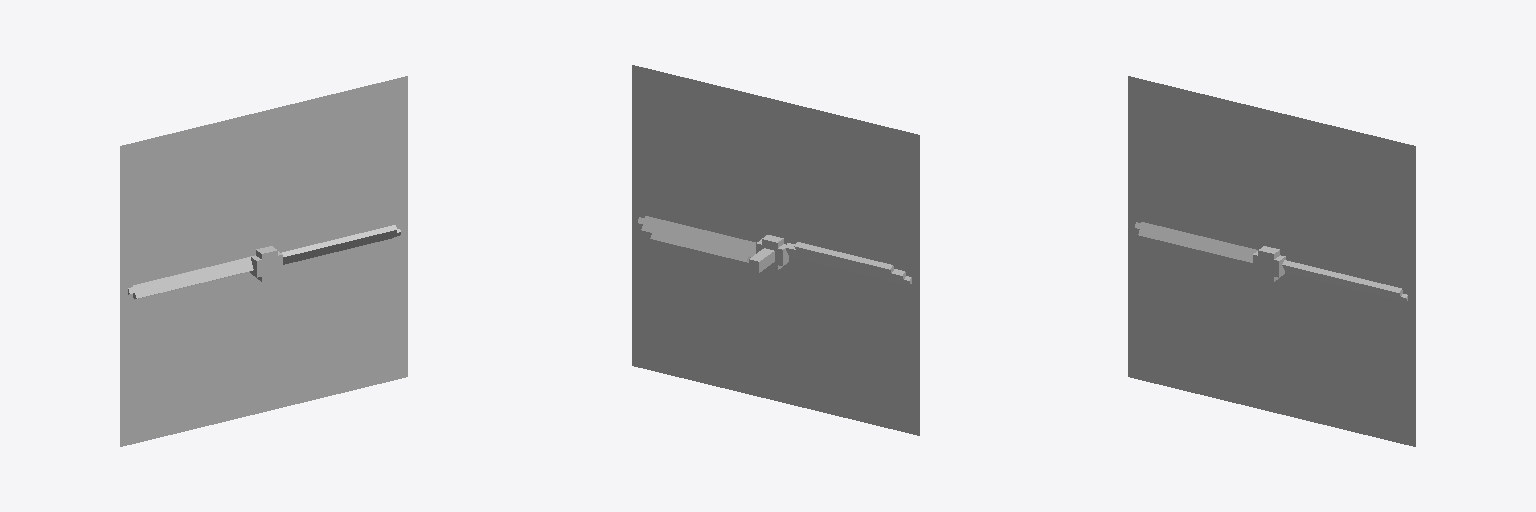
File: propellerlarge2blade.obj
The picture shows the model from 3 angles: view 1: azimuth 30°, elevation 25°; view 2: azimuth 150°, elevation 25°; view 3: azimuth 330°, elevation 25°; orthographic projection.
Visible parts, largest first — view 1: #translucent_2bladel_mblur, propellerlarge2blade; view 2: #translucent_2bladel_mblur, propellerlarge2blade; view 3: #translucent_2bladel_mblur, propellerlarge2blade.
Part boxes in pixels (x1,y1,x2,y2): #translucent_2bladel_mblur: (120, 76, 407, 446); propellerlarge2blade: (128, 225, 400, 299); #translucent_2bladel_mblur: (632, 65, 919, 435); propellerlarge2blade: (638, 216, 911, 284); #translucent_2bladel_mblur: (1128, 76, 1415, 446); propellerlarge2blade: (1135, 222, 1407, 301).
Size of the model in its own units: 3.38 by 3.38 by 0.5625.